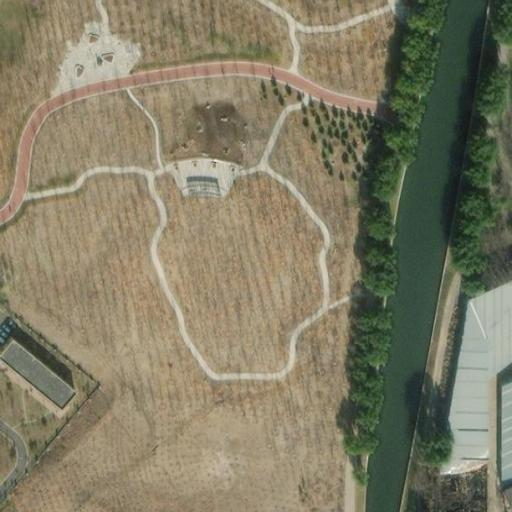building: (433, 272, 512, 454), (0, 334, 64, 399), (492, 376, 512, 489)
